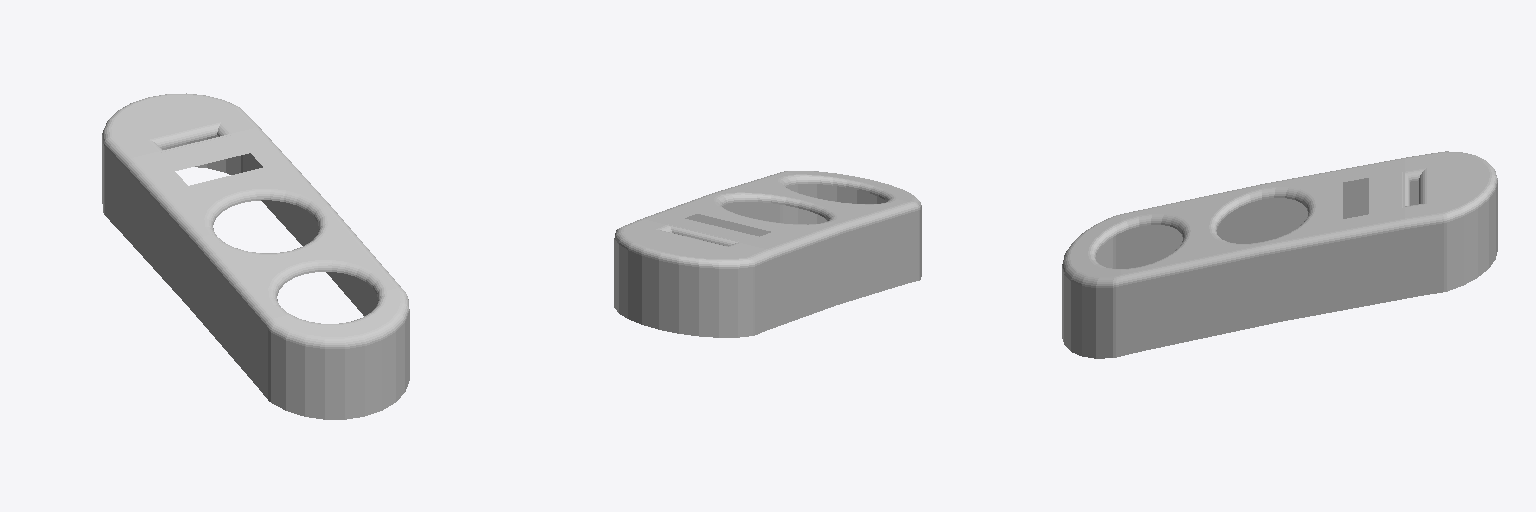
Rendered from original-29.obj.
The picture shows the model from 3 angles: view 1: azimuth 30°, elevation 25°; view 2: azimuth 150°, elevation 25°; view 3: azimuth 270°, elevation 25°; orthographic projection.
Parts seen in each view (by area): view 1: #ID208; view 2: #ID208; view 3: #ID208.
Part boxes in pixels (x1,y1,x2,y2): #ID208: (102, 93, 409, 419); #ID208: (614, 171, 921, 337); #ID208: (1062, 151, 1497, 358).
Bounding box in the file's own units: 0.0923 × 0.1029 × 0.2512.